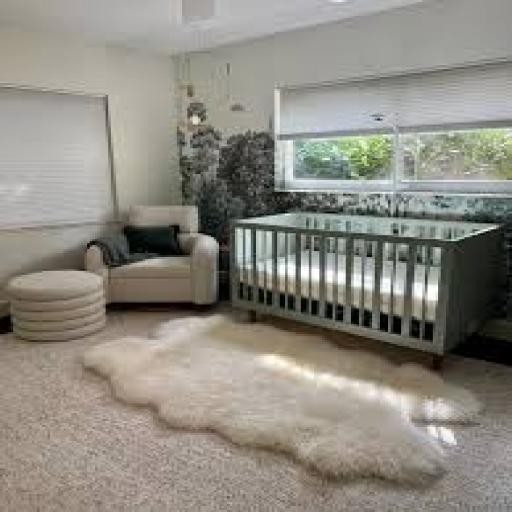crib: (233, 214, 504, 355)
